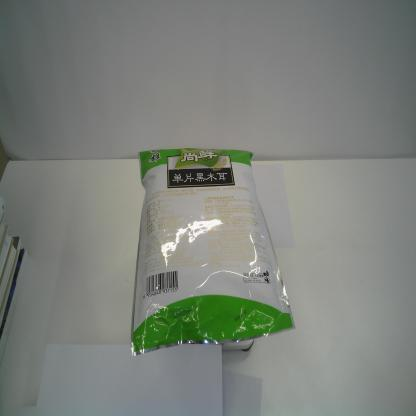Dried Food: (129, 146, 297, 359)
